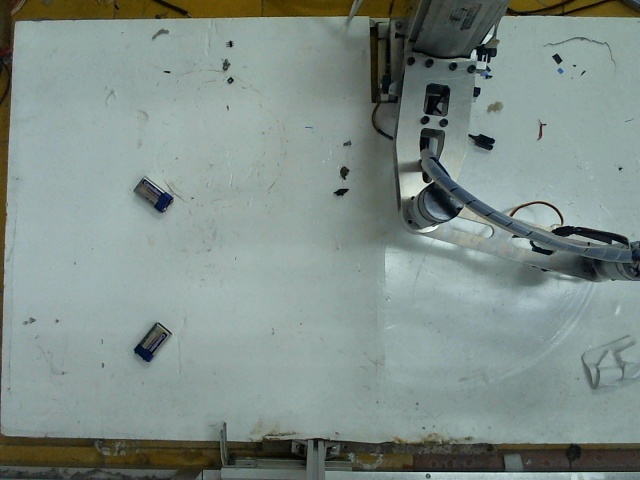battery: (133, 319, 172, 359), (129, 176, 172, 211)
